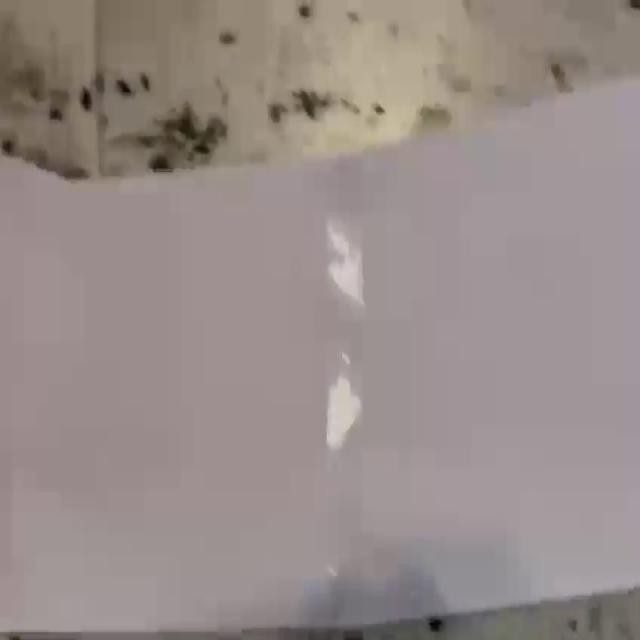road: (0, 79, 640, 631)
